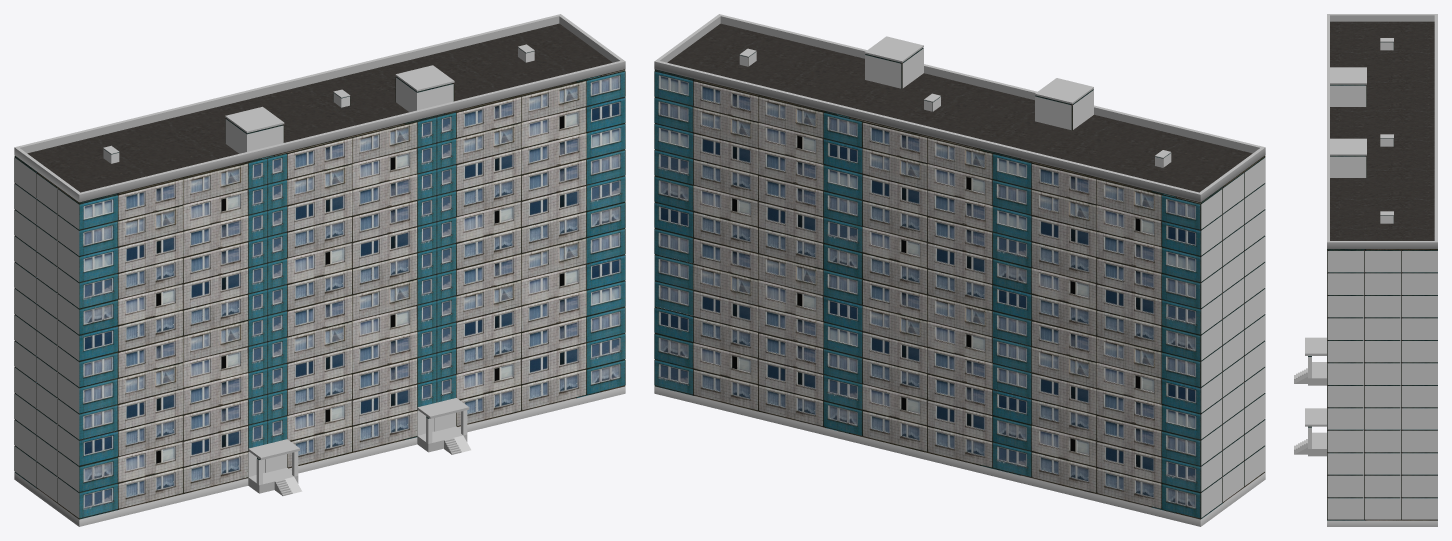
File: house_panel.fbx
The picture shows the model from 3 angles, left to right: view 1: azimuth 30°, elevation 25°; view 2: azimuth 150°, elevation 25°; view 3: azimuth 270°, elevation 25°; orthographic projection. The views are drawn at different scales.
Parts seen in each view (by area): view 1: v1.110, v1.003, v1.004, v1.050, v1.051, v1.052, v1.104, v1.113, v1.112, v2.011, v2.015, v2.017 (+93 smaller); view 2: v1.110, v1.052, v1.050, v1.051, v1.105, v1.113, v1.112, v2.074, v2.099, v2.092, v2.095, v2.097 (+115 smaller); view 3: v1.110, v1.053, v1.054, v1.055, v1.112, v1.113, v1.106, Plane.003, Plane.007, Plane.004, Plane.
Boxes of the visible parts, <box> form: v1.110: <box>14,14,625,203</box>; v1.003: <box>248,153,287,448</box>; v1.004: <box>417,112,456,407</box>; v1.050: <box>57,188,79,517</box>; v1.051: <box>36,172,57,502</box>; v1.052: <box>14,157,35,486</box>; v1.104: <box>79,385,625,526</box>; v1.113: <box>395,65,454,112</box>; v1.112: <box>225,106,284,153</box>; v2.011: <box>118,414,183,456</box>; v2.015: <box>183,267,248,309</box>; v2.017: <box>183,215,248,256</box>; v1.110: <box>654,14,1265,203</box>; v1.052: <box>1200,188,1222,517</box>; v1.050: <box>1243,157,1265,486</box>; v1.051: <box>1222,172,1243,502</box>; v1.105: <box>654,385,1200,526</box>; v1.113: <box>865,36,923,88</box>; v1.112: <box>1035,78,1093,130</box>; v2.074: <box>758,384,823,426</box>; v2.099: <box>927,399,992,441</box>; v2.092: <box>693,211,758,252</box>; v2.095: <box>693,185,758,226</box>; v2.097: <box>693,158,758,200</box>; v1.110: <box>1327,14,1437,249</box>; v1.053: <box>1401,250,1437,519</box>; v1.054: <box>1364,250,1400,519</box>; v1.055: <box>1327,250,1363,519</box>; v1.112: <box>1330,67,1366,106</box>; v1.113: <box>1330,138,1366,177</box>; v1.106: <box>1327,519,1437,526</box>; Plane.003: <box>1305,337,1326,355</box>; Plane.007: <box>1305,408,1326,426</box>; Plane.004: <box>1308,432,1326,456</box>; Plane: <box>1308,362,1326,385</box>.
Bounding box in the file's own units: 62.75 × 38.72 × 16.7.
